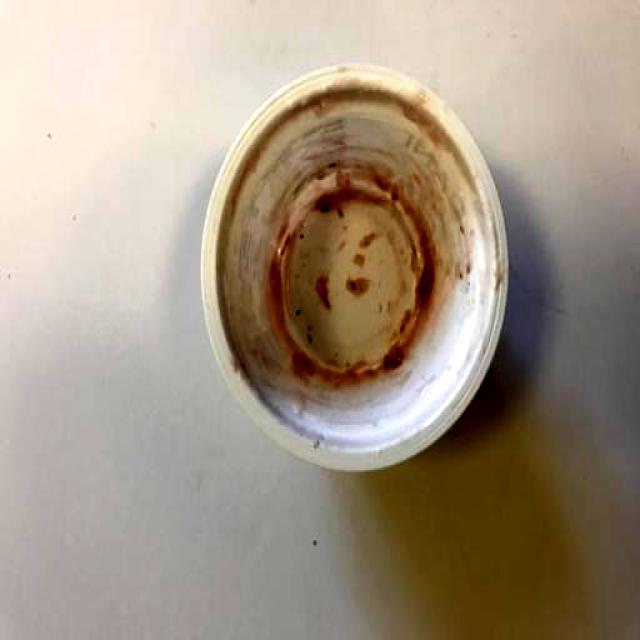Trash: (198, 58, 516, 480)
